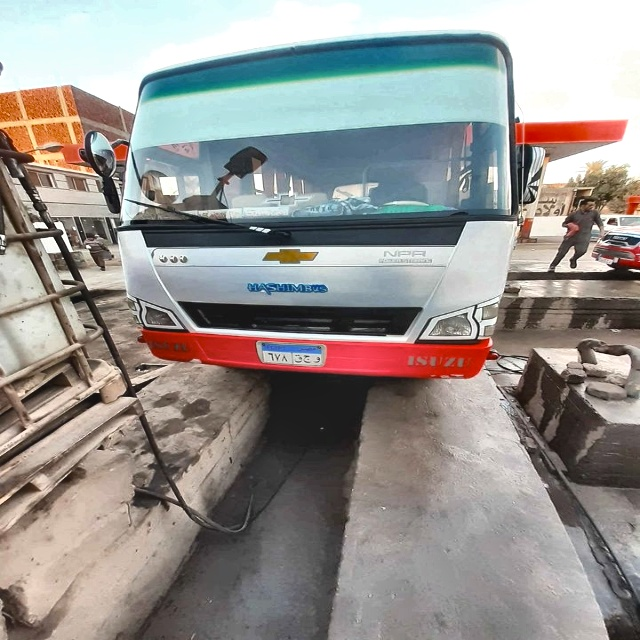License Plate: (260, 341, 324, 367)
